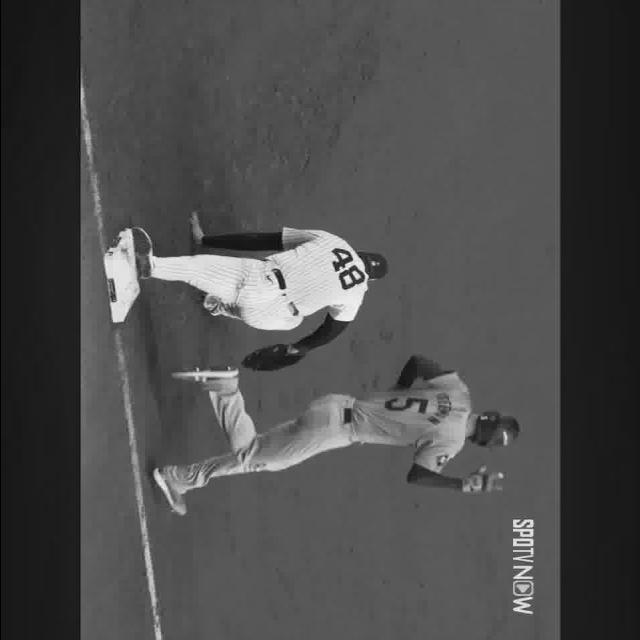base: (103, 229, 138, 322)
baseball_glove: (242, 344, 303, 371)
shoe: (150, 464, 185, 515), (170, 366, 238, 392), (130, 226, 152, 279), (200, 294, 220, 318)
